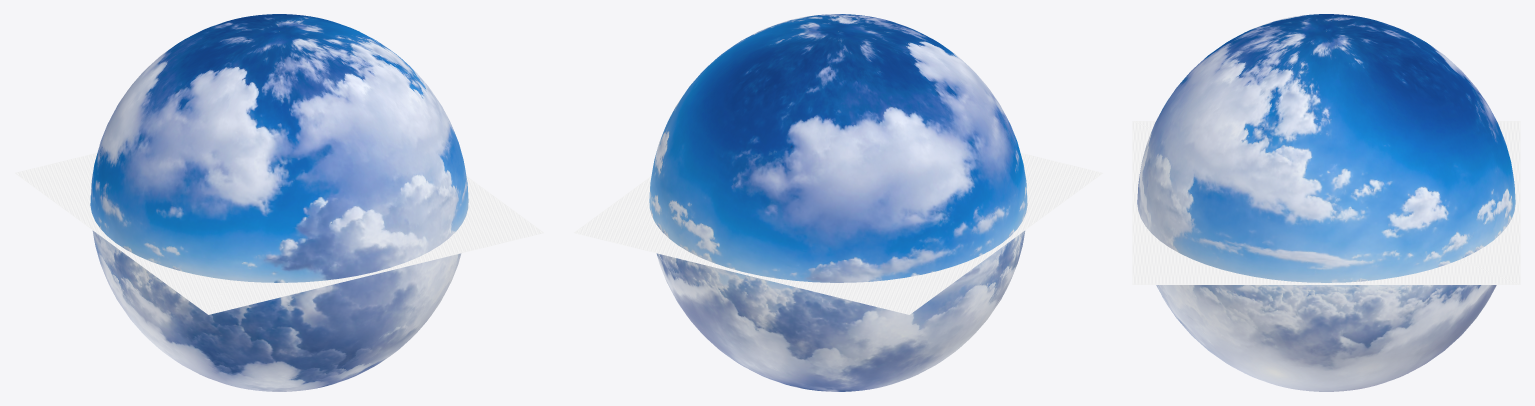
File: skybox3.glb
The picture shows the model from 3 angles, left to right: view 1: azimuth 30°, elevation 25°; view 2: azimuth 150°, elevation 25°; view 3: azimuth 270°, elevation 25°; orthographic projection.
Visible parts, largest first — view 1: Sphere, Plane; view 2: Sphere, Plane; view 3: Sphere, Plane.
Part boxes in pixels (left/top/right/bottom): Sphere: left=90, top=14, right=468, bottom=391; Plane: left=15, top=152, right=543, bottom=314; Sphere: left=649, top=14, right=1027, bottom=391; Plane: left=574, top=152, right=1102, bottom=314; Sphere: left=1137, top=14, right=1515, bottom=391; Plane: left=1132, top=121, right=1520, bottom=284.
Bounding box in the file's own units: 1026 × 1000 × 1026.
2 materials, 2 textured.
